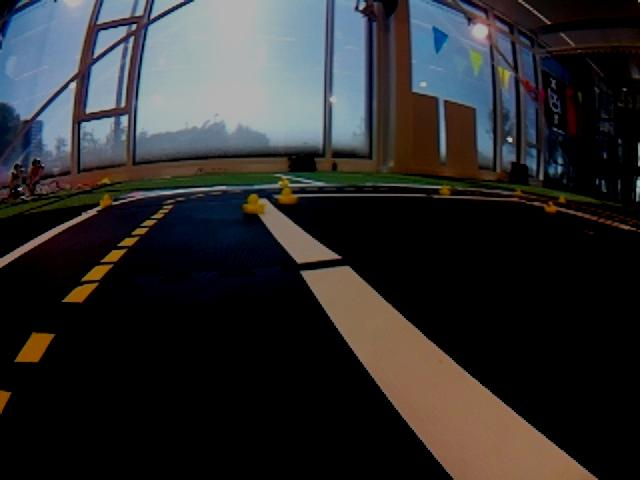Duckies: (243, 196, 267, 215), (277, 189, 297, 204), (98, 195, 113, 207), (543, 202, 557, 213), (439, 186, 451, 195), (278, 178, 289, 185), (558, 197, 567, 204), (514, 188, 522, 195)
